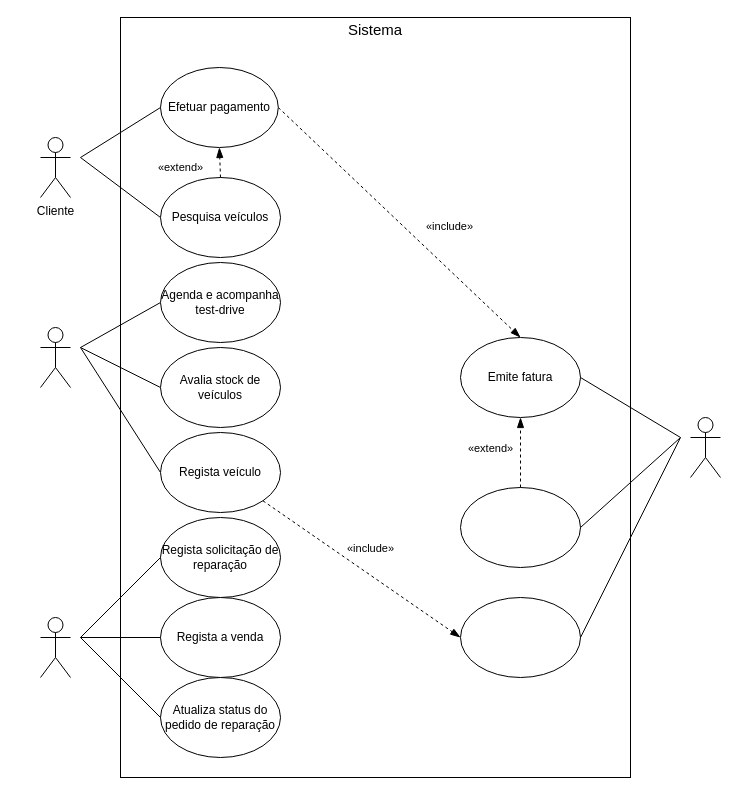
Image size: 750x795. Some labels were removed from this diagram. The centre of each missing label's shape, as x and y in pixels:
"Administração" belongs at (x=55, y=647).
"Efetua pagamento" belongs at (x=520, y=637).
"Emite Orçamento" belongs at (x=520, y=527).
"Financeiro" belongs at (x=705, y=447).
"Funcionário" belongs at (x=55, y=357).
